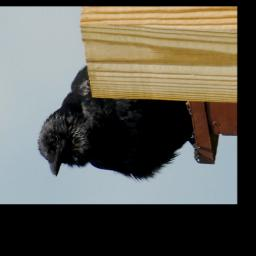Crow: (36, 65, 201, 185)
